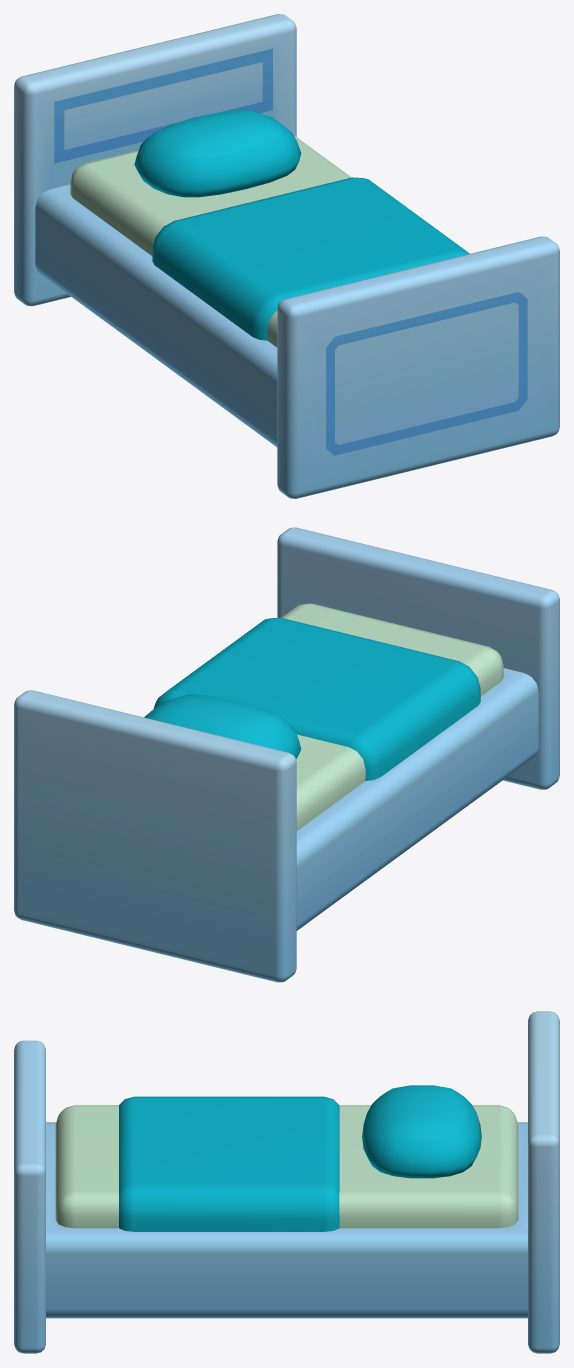
The model's file is Bed_09.glb.
3 renders of one model, top to bottom at view 1: azimuth 30°, elevation 25°; view 2: azimuth 150°, elevation 25°; view 3: azimuth 270°, elevation 25°, orthographic. The views are drawn at different scales.
Parts seen in each view (by area): view 1: Bed_09; view 2: Bed_09; view 3: Bed_09.
Boxes of the visible parts, bbox=[...] form: Bed_09: bbox=[14, 14, 559, 498]; Bed_09: bbox=[14, 527, 559, 982]; Bed_09: bbox=[14, 1011, 559, 1353].
Bounding box in the file's own units: 0.96 × 0.75 × 1.7.
1 material, 1 textured.
